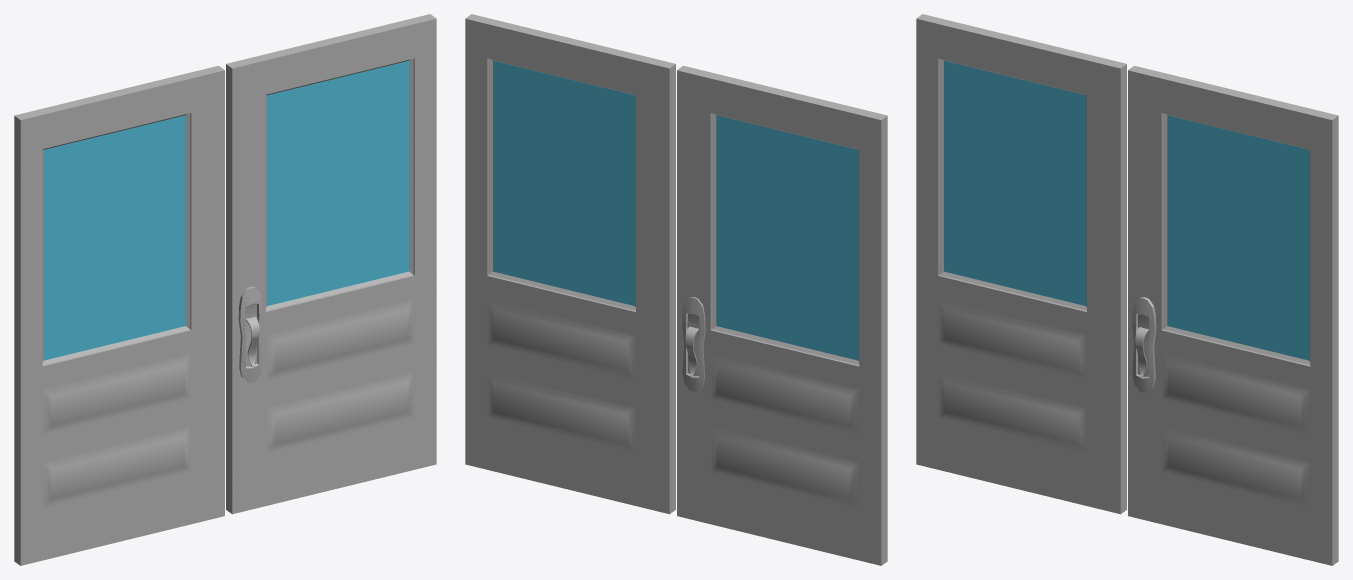
Rendered from HotelDoors.fbx.
3 renders of one model, left to right at view 1: azimuth 30°, elevation 25°; view 2: azimuth 150°, elevation 25°; view 3: azimuth 330°, elevation 25°, orthographic.
Parts seen in each view (by area): view 1: Object910, Object909; view 2: Object910, Object909; view 3: Object910, Object909.
Boxes of the visible parts, left/top/right/bottom form: Object910: left=226, top=14, right=436, bottom=514; Object909: left=14, top=65, right=224, bottom=565; Object910: left=465, top=14, right=675, bottom=514; Object909: left=677, top=65, right=887, bottom=565; Object910: left=1128, top=65, right=1338, bottom=565; Object909: left=916, top=14, right=1126, bottom=514.
Size of the model in its own units: 240 by 245 by 17.46.
